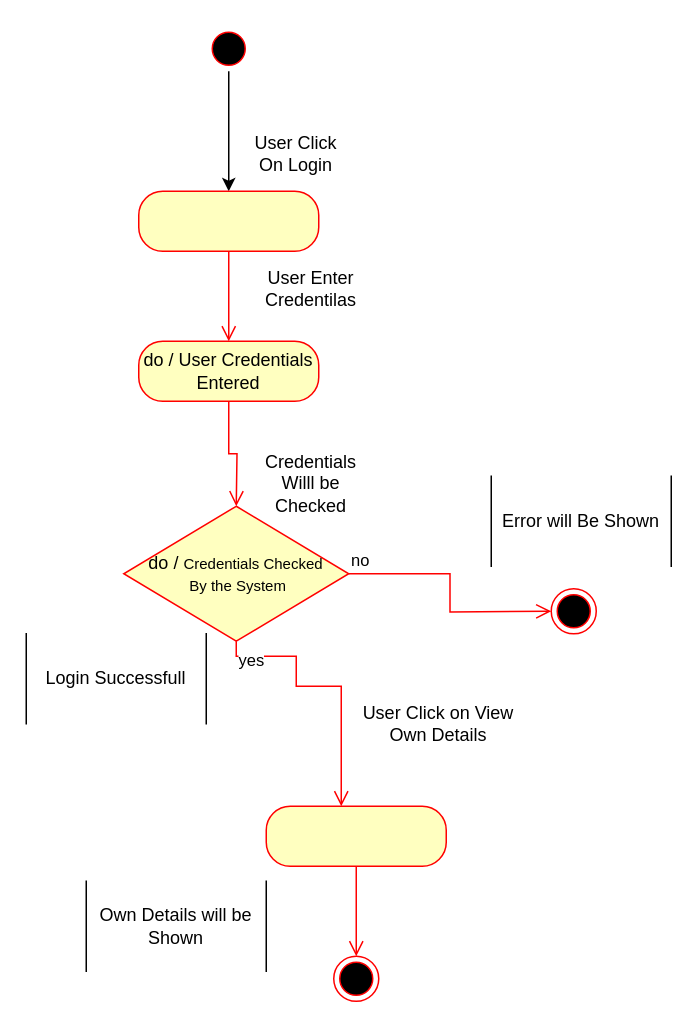
The diagram is 698 pixels wide and 1028 high, and some of its shapes have lost their labels. The box of each missing label's shape, as (x1, y1, x2, y2) in pixels:
do / Login Page Shown: (137, 190, 319, 251)
do / View own Details Displayed: (265, 805, 446, 866)
